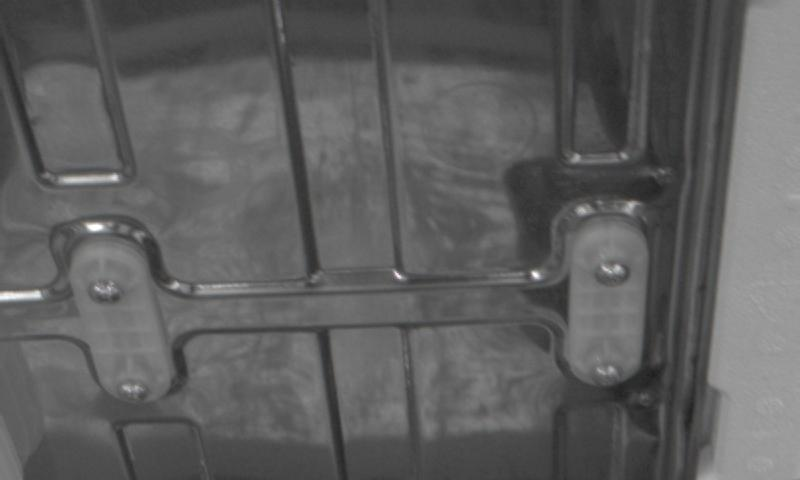vida-ok: (86, 268, 132, 312), (592, 253, 639, 296), (113, 367, 158, 407), (585, 349, 631, 388)
